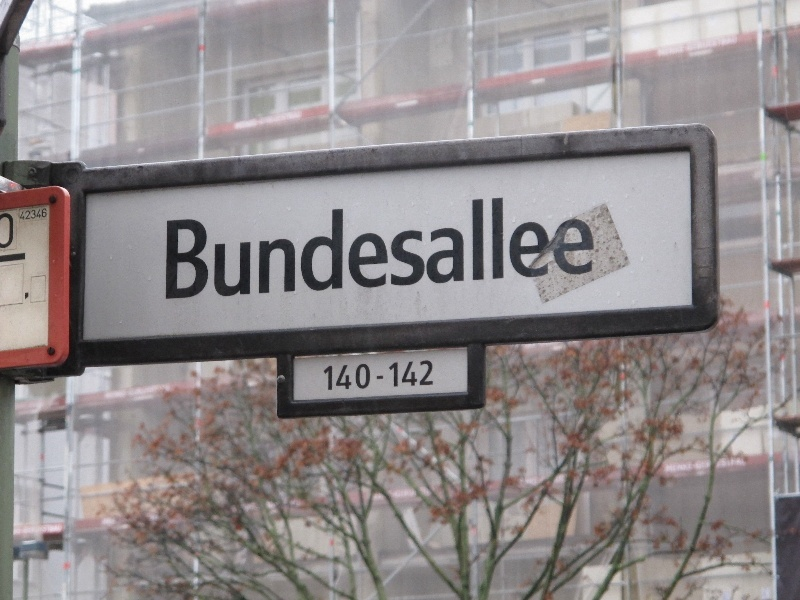text: (177, 191, 192, 304), (193, 191, 208, 304), (209, 191, 224, 304), (225, 191, 240, 304), (241, 191, 256, 304), (257, 191, 272, 304), (273, 191, 288, 304), (289, 191, 304, 304), (305, 191, 320, 304), (321, 191, 336, 304), (337, 191, 352, 304), (353, 191, 368, 304), (369, 191, 384, 304), (385, 191, 400, 304), (401, 191, 416, 304), (417, 191, 432, 304), (433, 191, 448, 304), (449, 191, 464, 304), (465, 191, 480, 304), (481, 191, 496, 304), (497, 191, 512, 304), (513, 191, 528, 304), (529, 191, 544, 304), (545, 191, 560, 304), (561, 191, 576, 304), (577, 191, 592, 304), (166, 191, 176, 304), (1, 213, 16, 249), (337, 359, 352, 391), (353, 359, 368, 391), (369, 359, 384, 391), (385, 359, 400, 391), (401, 359, 416, 391), (417, 359, 432, 391), (593, 191, 597, 304), (323, 359, 336, 391), (657, 35, 672, 59), (673, 35, 688, 59), (689, 35, 704, 59), (705, 35, 720, 59), (721, 35, 736, 59), (241, 110, 256, 130), (257, 110, 272, 130), (273, 110, 288, 130), (289, 110, 303, 130), (113, 383, 128, 400), (129, 383, 144, 400), (145, 383, 160, 400), (673, 457, 688, 473), (689, 457, 704, 473), (705, 457, 720, 473), (721, 457, 736, 473), (241, 497, 256, 513), (257, 497, 272, 513), (273, 497, 288, 513), (385, 486, 400, 501), (401, 486, 416, 501), (417, 486, 431, 501), (289, 497, 301, 513), (33, 208, 47, 221), (161, 383, 171, 400), (17, 525, 32, 536), (33, 525, 48, 536), (49, 525, 64, 536), (373, 486, 384, 501), (737, 457, 747, 473), (529, 476, 544, 486), (401, 99, 416, 109), (231, 497, 240, 513), (104, 383, 112, 400), (234, 110, 240, 130), (23, 208, 32, 221), (665, 457, 672, 473), (531, 78, 544, 85), (101, 518, 112, 526), (561, 473, 569, 484), (520, 476, 528, 486), (433, 359, 435, 391), (395, 99, 400, 109), (556, 473, 560, 484), (737, 35, 738, 59), (14, 525, 16, 536), (545, 476, 547, 486), (113, 518, 115, 526), (417, 99, 418, 109), (545, 78, 546, 85)
